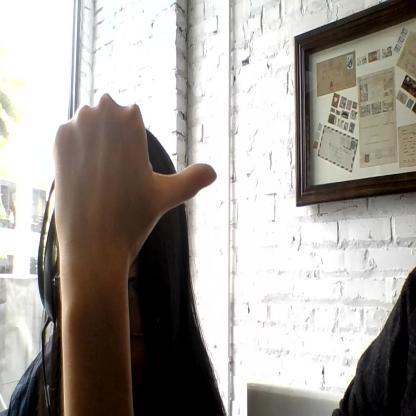left: (53, 93, 218, 262)
